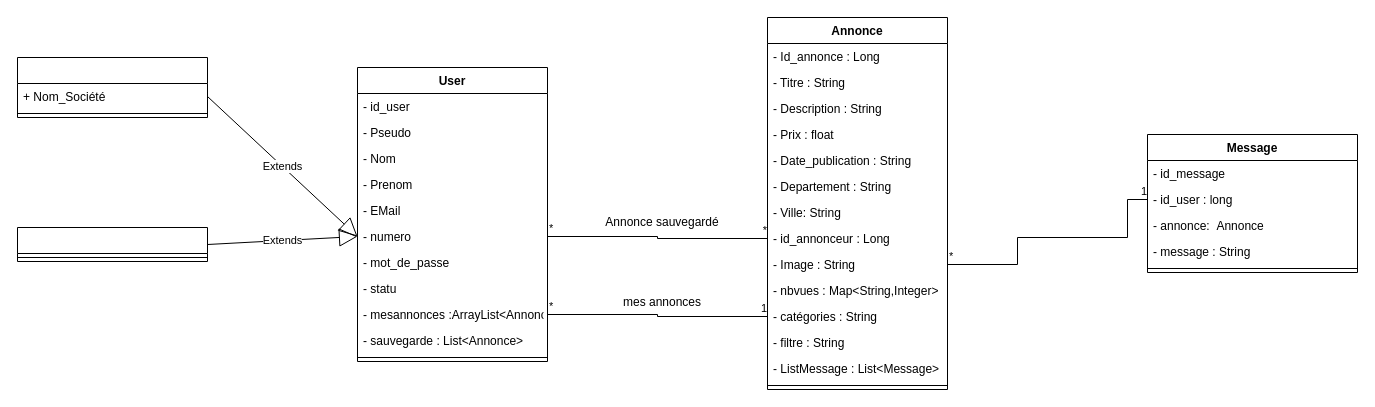
Image size: 1375x407. Some labels were removed from this diagram. Here are the shapes that lost their labels. From the top down, the box of each, then its label:
(16, 56, 208, 118): AnnonceurPro
(16, 226, 208, 262): Annonceur
